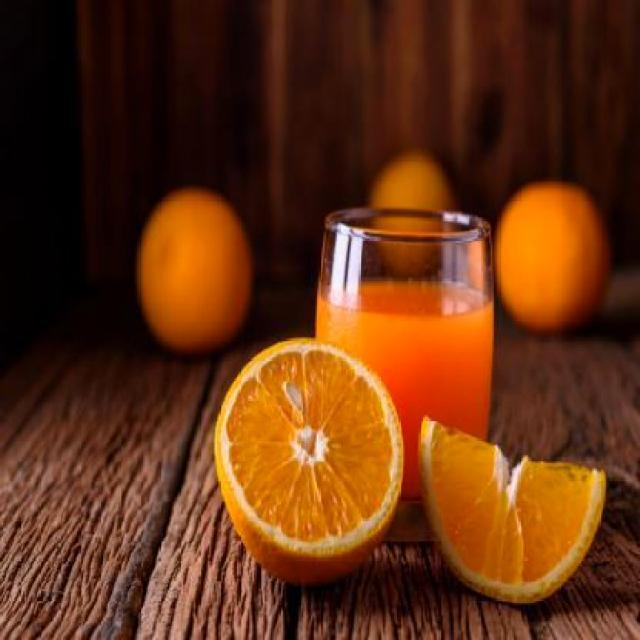Jeruk Sudah Matang: (136, 193, 252, 344), (493, 181, 609, 330), (366, 154, 452, 278)
